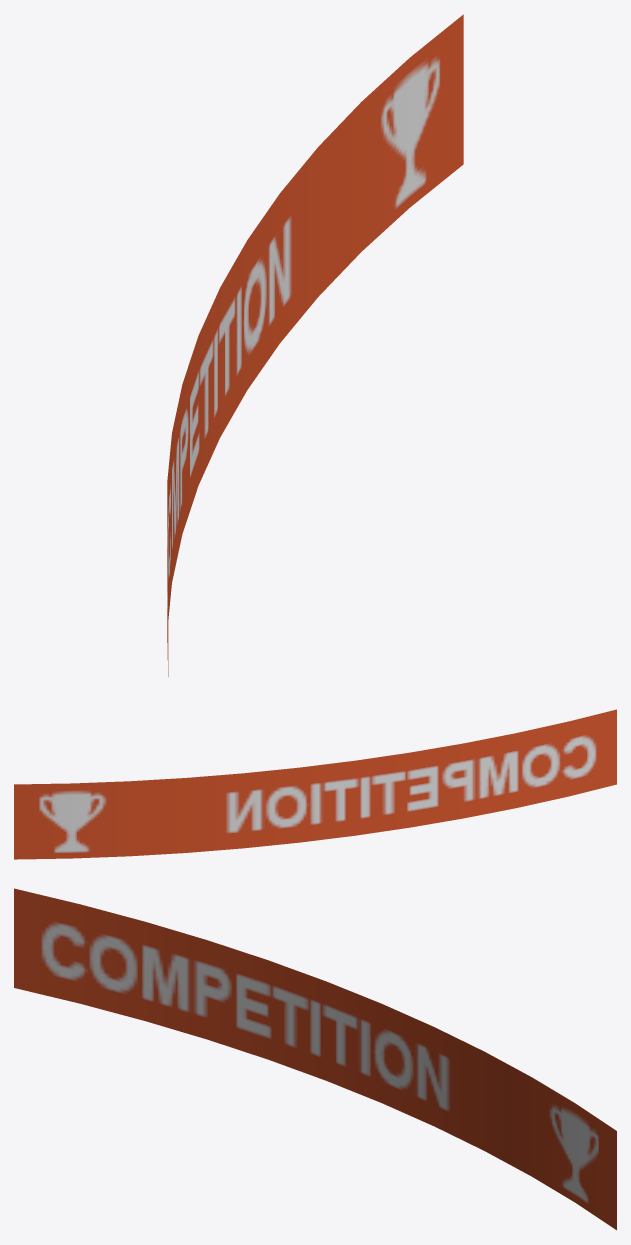
The model's file is competition.glb.
3 views of the same model, one above another, from view 1: azimuth 30°, elevation 25°; view 2: azimuth 150°, elevation 25°; view 3: azimuth 270°, elevation 25° (orthographic). The views are drawn at different scales.
Parts seen in each view (by area): view 1: menu_1_op_2_competition.001; view 2: menu_1_op_2_competition.001; view 3: menu_1_op_2_competition.001.
Part boxes in pixels (x1=…): menu_1_op_2_competition.001: x1=167, y1=14, x2=463, y2=676; menu_1_op_2_competition.001: x1=14, y1=709, x2=616, y2=859; menu_1_op_2_competition.001: x1=14, y1=888, x2=616, y2=1230.
Bounding box in the file's own units: 2.66 × 0.509 × 2.8.
1 material, 1 textured.
